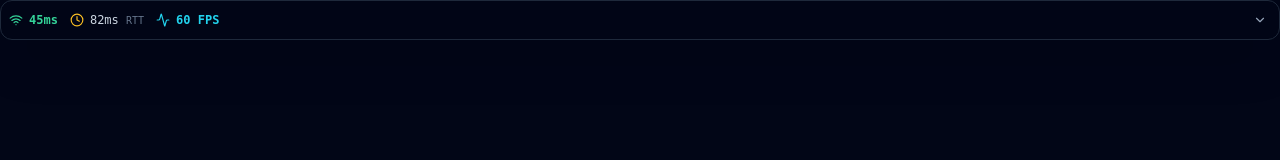
Test: LatencyTelemetryHUD Component › should toggle expanded view and render render latency, jitter, and packet loss
Click the button with test id "toggle-expand-btn" at (1260, 20), box [1249,9,1271,31]
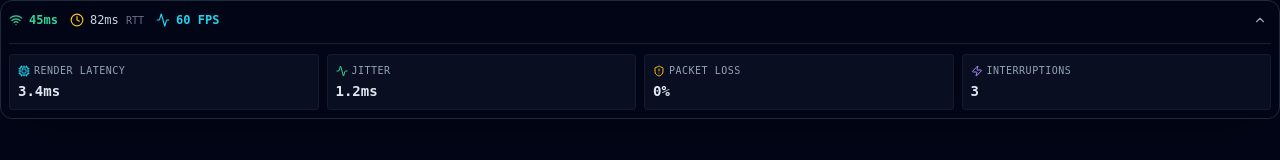
Result: the element with test id "expanded-telemetry-details" is shown at [9,43,1271,110]
Result: the text with test id "render-time-metric" reads "3.4ms" at [18,83,60,99]
Result: the text with test id "jitter-metric" reads "1.2ms" at [336,83,378,99]
